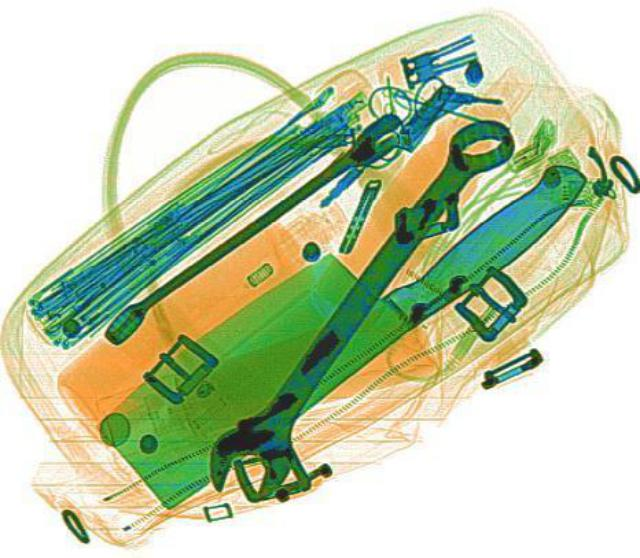Knife: (73, 107, 603, 511)
Wrench: (186, 99, 526, 509)
